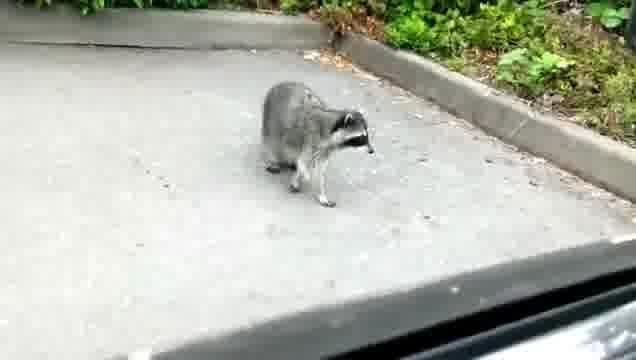raccoon: (258, 82, 375, 208)
